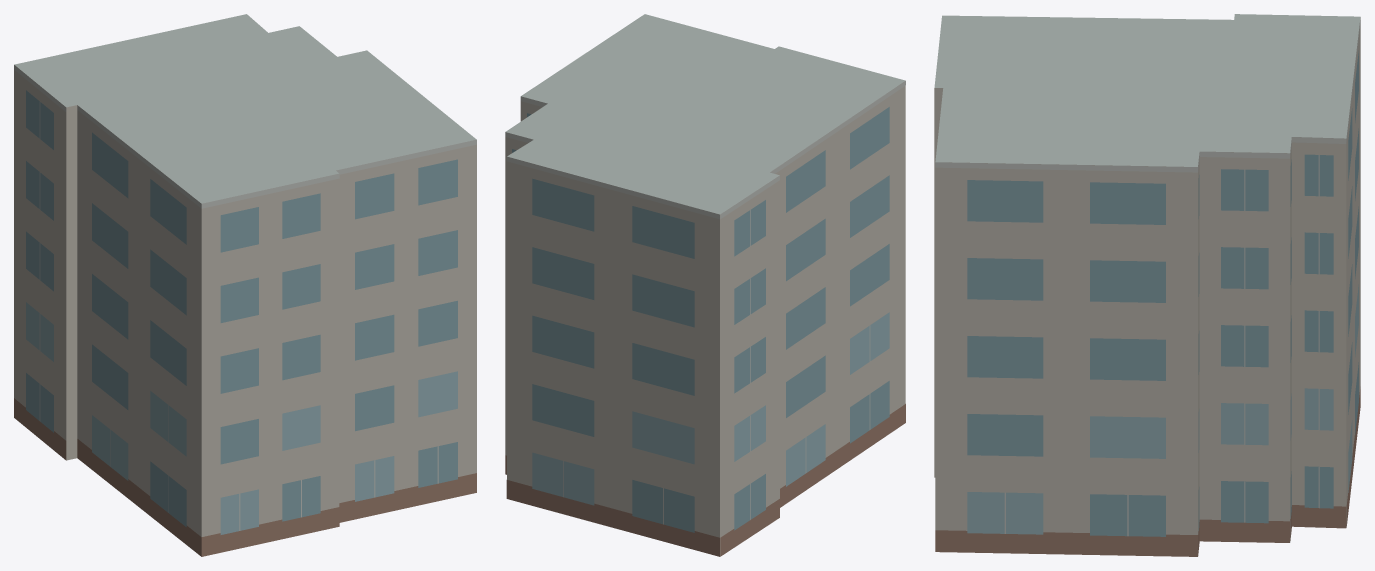
The model's file is survey-upis-32945968.glb.
3 views of the same model, side by side, from view 1: azimuth 30°, elevation 25°; view 2: azimuth 150°, elevation 25°; view 3: azimuth 270°, elevation 25° (orthographic). The views are drawn at different scales.
Parts seen in each view (by area): view 1: survey-upis-32945968.tmp; view 2: survey-upis-32945968.tmp; view 3: survey-upis-32945968.tmp.
Part boxes in pixels (box(x1,y1,x2,y2)): survey-upis-32945968.tmp: box(14, 14, 476, 556); survey-upis-32945968.tmp: box(505, 14, 905, 556); survey-upis-32945968.tmp: box(934, 14, 1360, 556).
Bounding box in the file's own units: 14.49 × 17.2 × 17.05.
